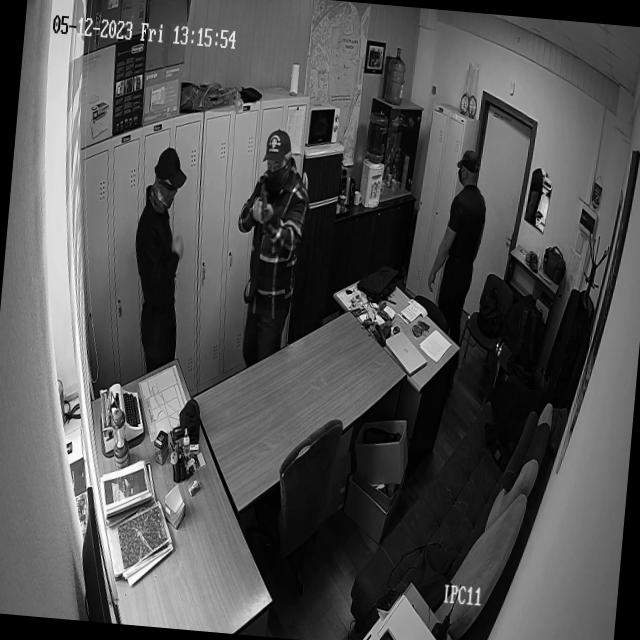gun: (247, 179, 276, 237)
person: (121, 150, 190, 380), (422, 144, 492, 351)
person with a gun: (225, 125, 314, 384)
